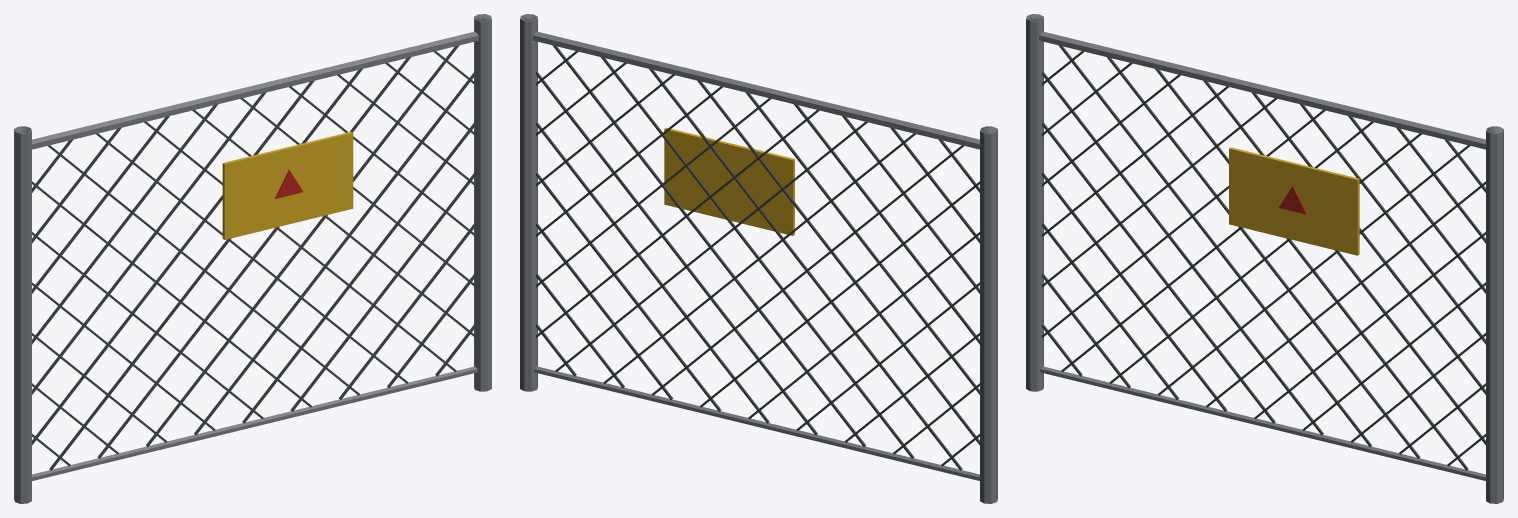
File: fence_chain.fbx
The picture shows the model from 3 angles, left to right: view 1: azimuth 30°, elevation 25°; view 2: azimuth 150°, elevation 25°; view 3: azimuth 330°, elevation 25°; orthographic projection.
Parts seen in each view (by area): view 1: fence_chain; view 2: fence_chain; view 3: fence_chain.
Boxes of the visible parts, left/top/right/bottom form: fence_chain: left=14, top=14, right=491, bottom=503; fence_chain: left=520, top=14, right=997, bottom=503; fence_chain: left=1026, top=14, right=1503, bottom=503.
Size of the model in its own units: 2.96 by 2.2 by 0.1.
